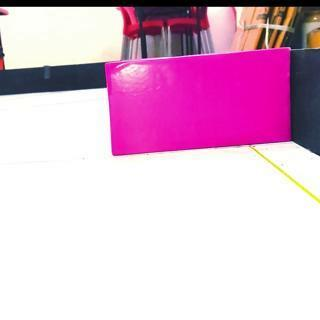xparking: (109, 57, 290, 149)
